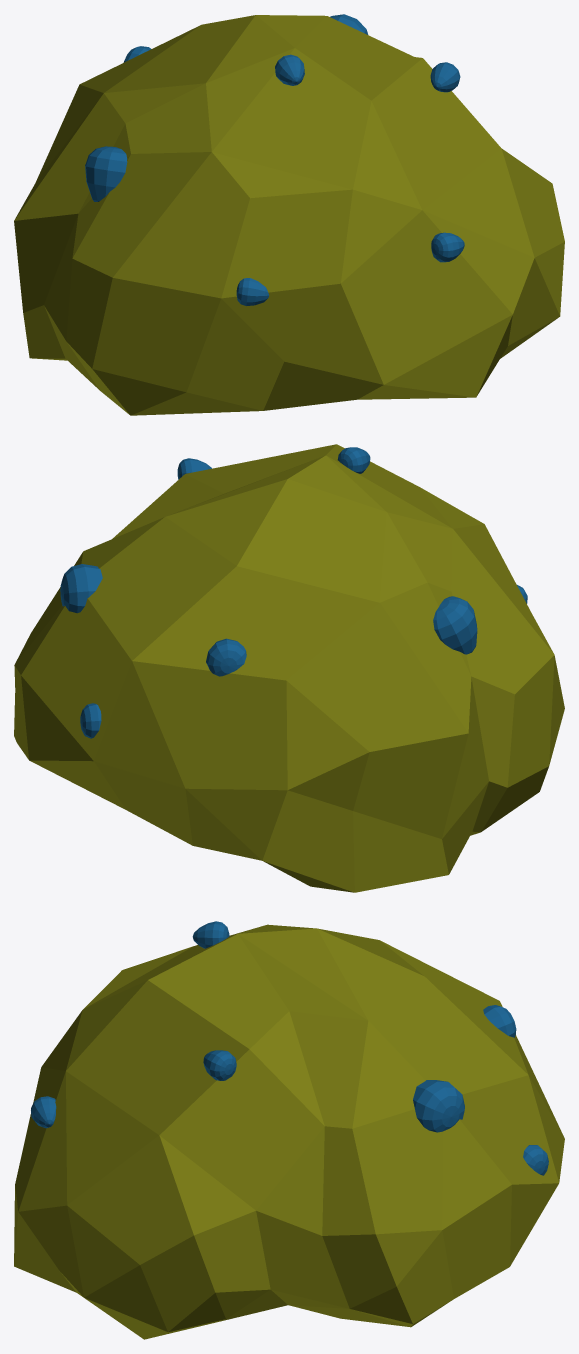
Rendered from blueberry_bush.fbx.
3 views of the same model, one above another, from view 1: azimuth 30°, elevation 25°; view 2: azimuth 150°, elevation 25°; view 3: azimuth 270°, elevation 25° (orthographic). The views are drawn at different scales.
Parts seen in each view (by area): view 1: blueberry_bush; view 2: blueberry_bush; view 3: blueberry_bush.
Boxes of the visible parts, x1,y1,x2,y2 form: blueberry_bush: (14,14,564,415); blueberry_bush: (14,444,564,892); blueberry_bush: (14,921,564,1339).
Size of the model in its own units: 620 by 440 by 629.
